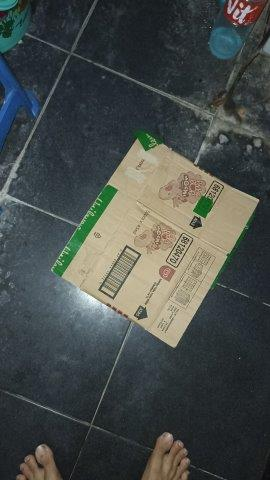kardus: (53, 136, 259, 346)
